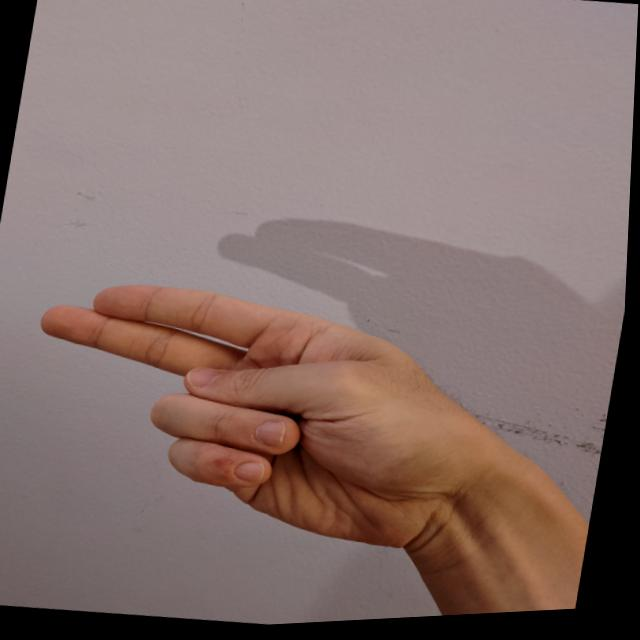H: (0, 250, 510, 582)
